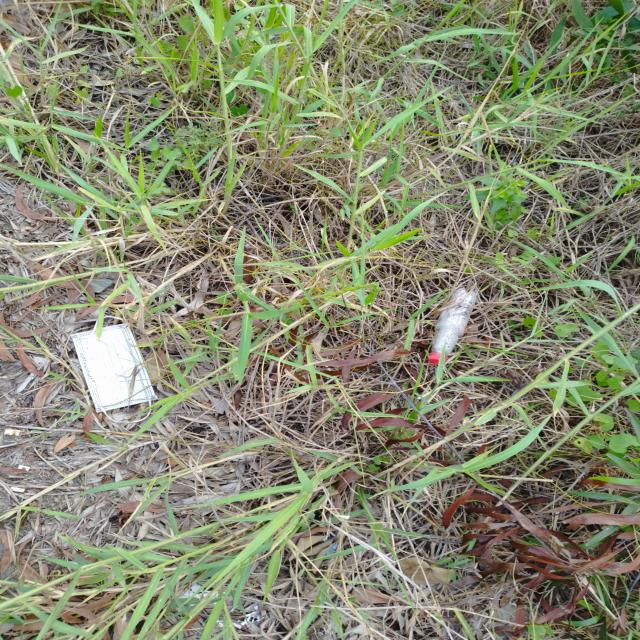bottle: (428, 287, 477, 365)
mask: (70, 316, 159, 423)
